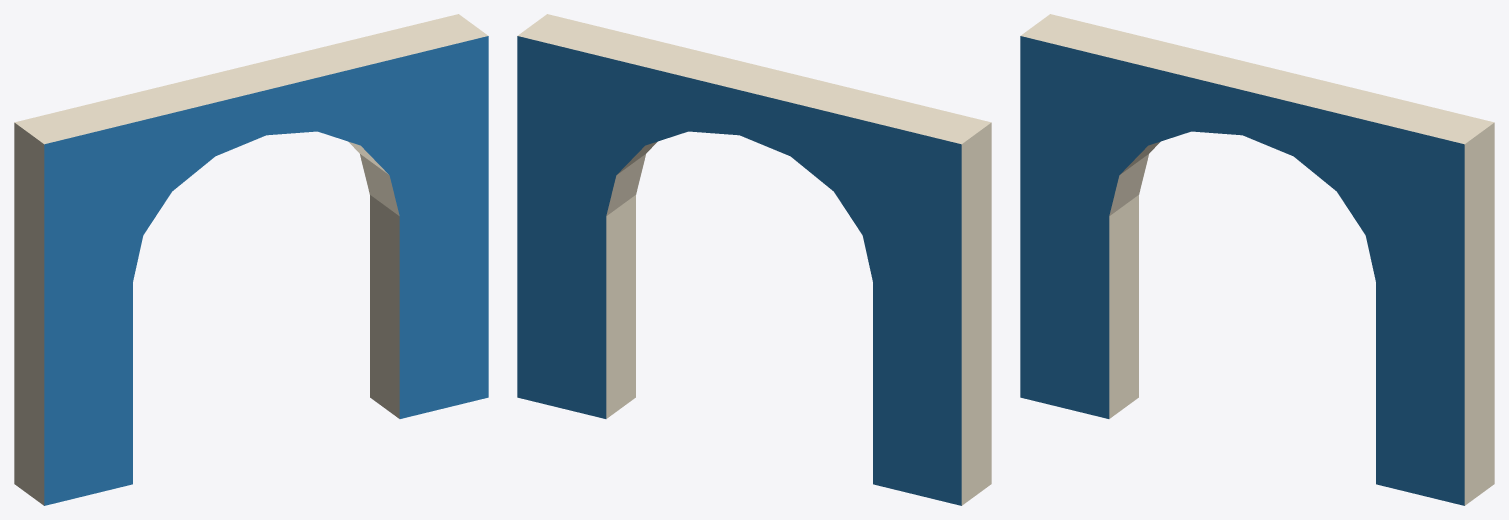
Rendered from town_arch.glb.
3 views of the same model, side by side, from view 1: azimuth 30°, elevation 25°; view 2: azimuth 150°, elevation 25°; view 3: azimuth 330°, elevation 25° (orthographic).
Parts seen in each view (by area): view 1: beach_town_arch; view 2: beach_town_arch; view 3: beach_town_arch.
Part boxes in pixels (x1,y1,x2,y2): beach_town_arch: (14, 14, 488, 505); beach_town_arch: (517, 14, 991, 505); beach_town_arch: (1020, 14, 1494, 505).
Bounding box in the file's own units: 3.6 × 2.8 × 0.42.
Materials: 1 (1 with a texture image).
